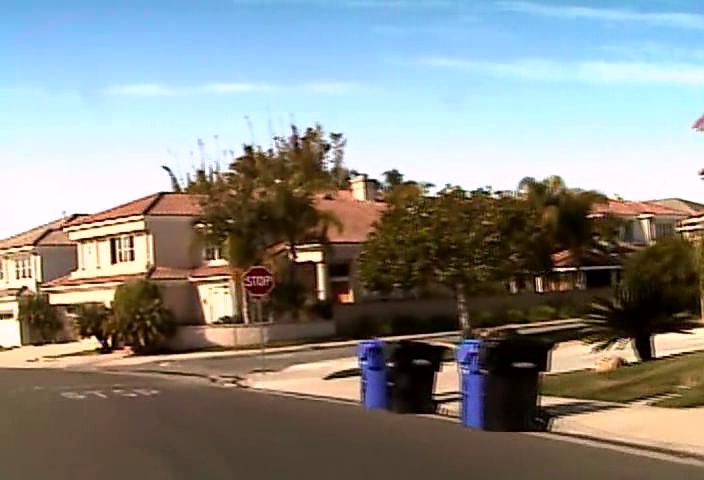stop: (242, 265, 274, 296)
